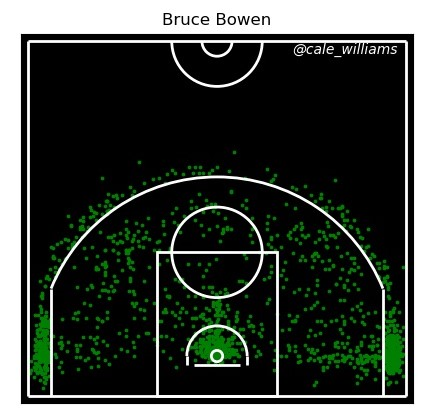

What the dashboard file says about the page in this screenshot:
{"tool":"tableau","page":{"name":"Dashboard 1","canvas":[800,800],"ordinal":0},"visuals":[{"type":"worksheet","title":"Sheet 1","mark":"Automatic","rows":["LOC_Y"],"cols":["LOC_X"],"box":[8,8,624,784]},{"type":"legend","title":"Sheet 1","param":"[federated.03dq9x01td4w500zwbh3a0a7gqdi].[none:SHOT_MADE_FLAG:ok]","box":[632,8,160,72]}]}

Visuals, with their boxes on the page's 800x800 design canvas (x1, y1, x2, y2). These are canvas units, not pixel positions in the 431x414 screenshot, which may show the page scaled, cropped or inside an application window:
"Sheet 1" worksheet: [8,8,632,792]
"Sheet 1" legend: [632,8,792,80]
